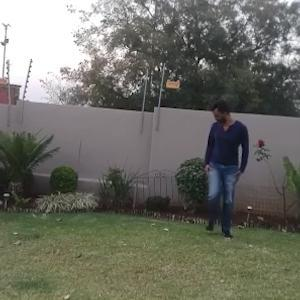follow: (203, 97, 249, 241)
